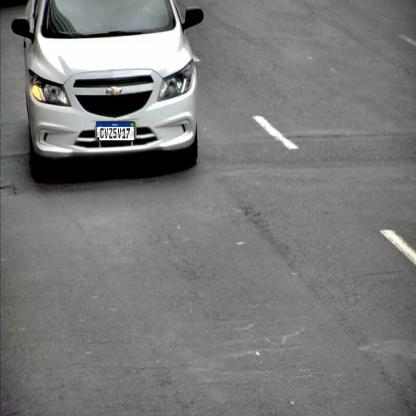PlacaM: (96, 121, 135, 142)
